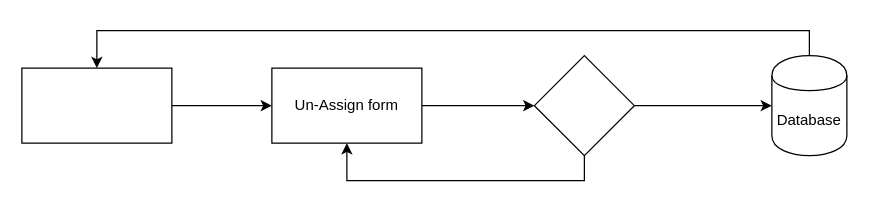
Image size: 869x213. Some labels were removed from this diagram. Each missing label, with the centre of its shape:
"Item List" goes at (x=96, y=105).
"Validation" goes at (x=583, y=105).
